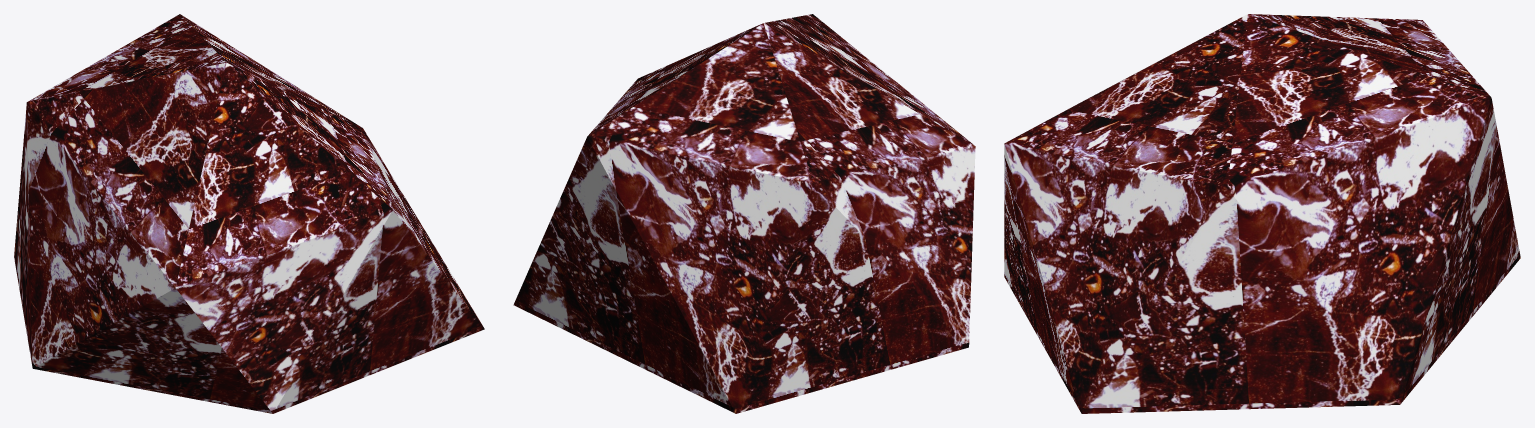
The picture shows the model from 3 angles, left to right: view 1: azimuth 30°, elevation 25°; view 2: azimuth 150°, elevation 25°; view 3: azimuth 270°, elevation 25°; orthographic projection. The views are drawn at different scales.
Parts seen in each view (by area): view 1: ROCK; view 2: ROCK; view 3: ROCK.
Boxes of the visible parts, box(x1,y1,x2,y2) form: ROCK: box(14, 14, 484, 413); ROCK: box(513, 14, 975, 413); ROCK: box(1004, 14, 1520, 413).
Bounding box in the file's own units: 5.01 × 3.26 × 5.15.
Materials: 1 (1 with a texture image).
